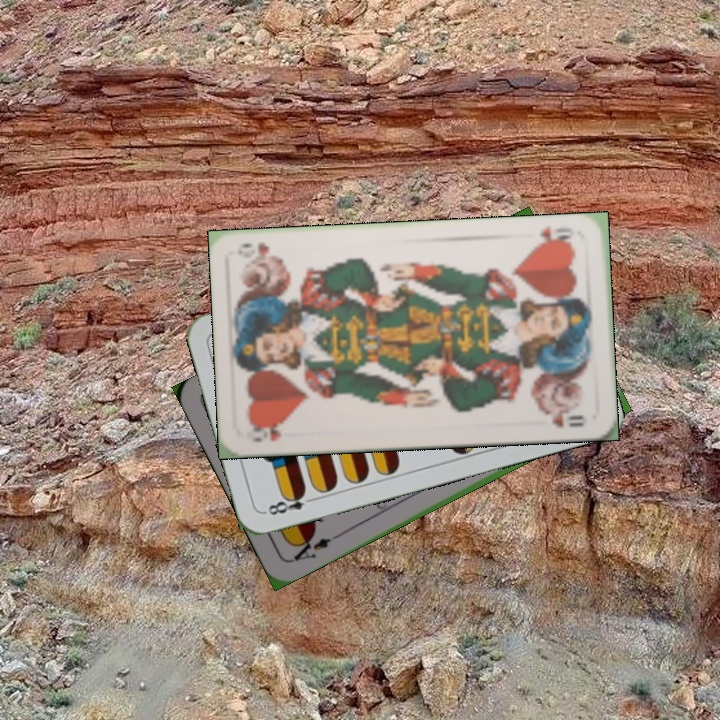E8: (261, 487, 319, 518)
EA: (287, 530, 341, 565)
HO: (530, 222, 577, 249), (244, 420, 288, 445)
